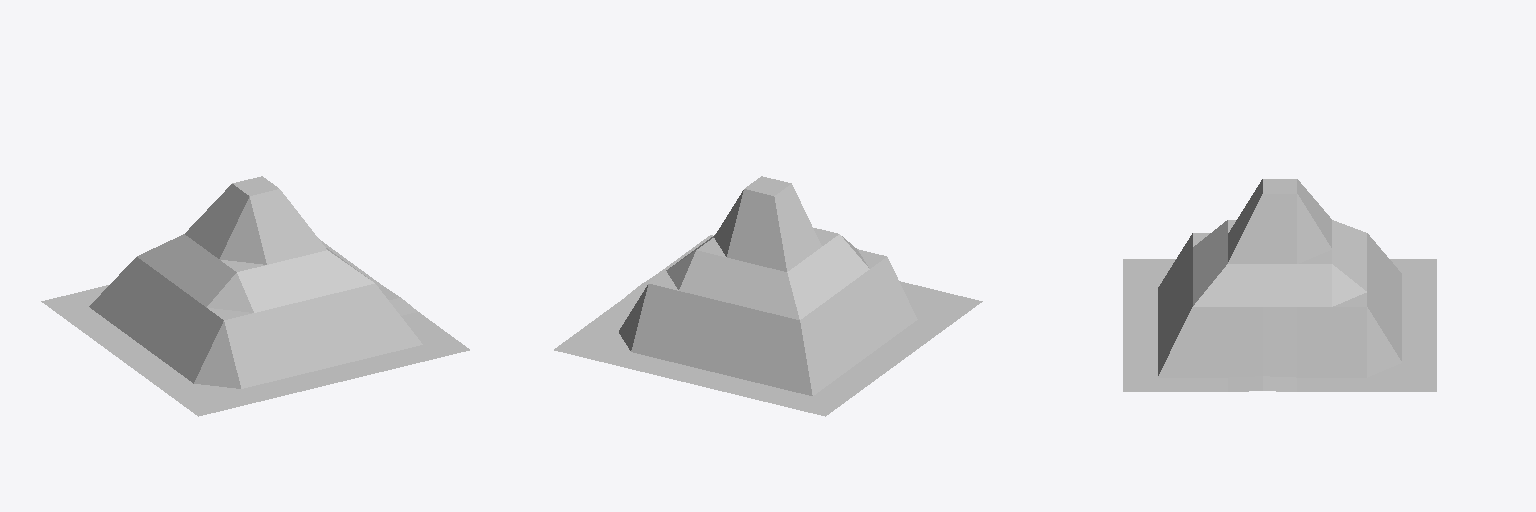
The model's file is gaussienne_triangulaire.obj.
3 renders of one model, left to right at view 1: azimuth 30°, elevation 25°; view 2: azimuth 150°, elevation 25°; view 3: azimuth 270°, elevation 25°, orthographic.
Parts seen in each view (by area): view 1: Grid; view 2: Grid; view 3: Grid.
Part boxes in pixels (bbox=[...]): Grid: bbox=[41, 176, 469, 416]; Grid: bbox=[554, 176, 982, 416]; Grid: bbox=[1123, 179, 1436, 391].
Size of the model in its own units: 1 by 0.4895 by 1.